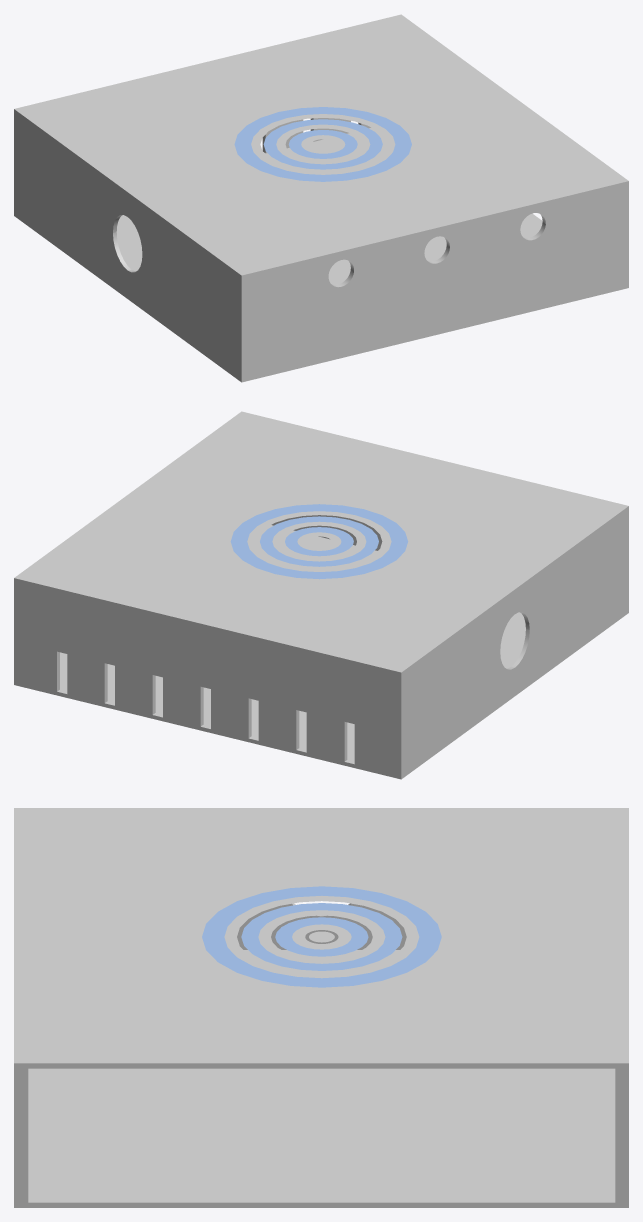
File: feb11.glb
3 renders of one model, top to bottom at view 1: azimuth 30°, elevation 25°; view 2: azimuth 150°, elevation 25°; view 3: azimuth 270°, elevation 25°, orthographic. The views are drawn at different scales.
Visible parts, largest first — view 1: feb 11; view 2: feb 11; view 3: feb 11.
Part boxes in pixels (box(x1,y1,x2,y2)): feb 11: box(14, 14, 628, 382); feb 11: box(14, 411, 628, 779); feb 11: box(14, 808, 628, 1207).
Size of the model in its own units: 15.16 by 4 by 15.43.
